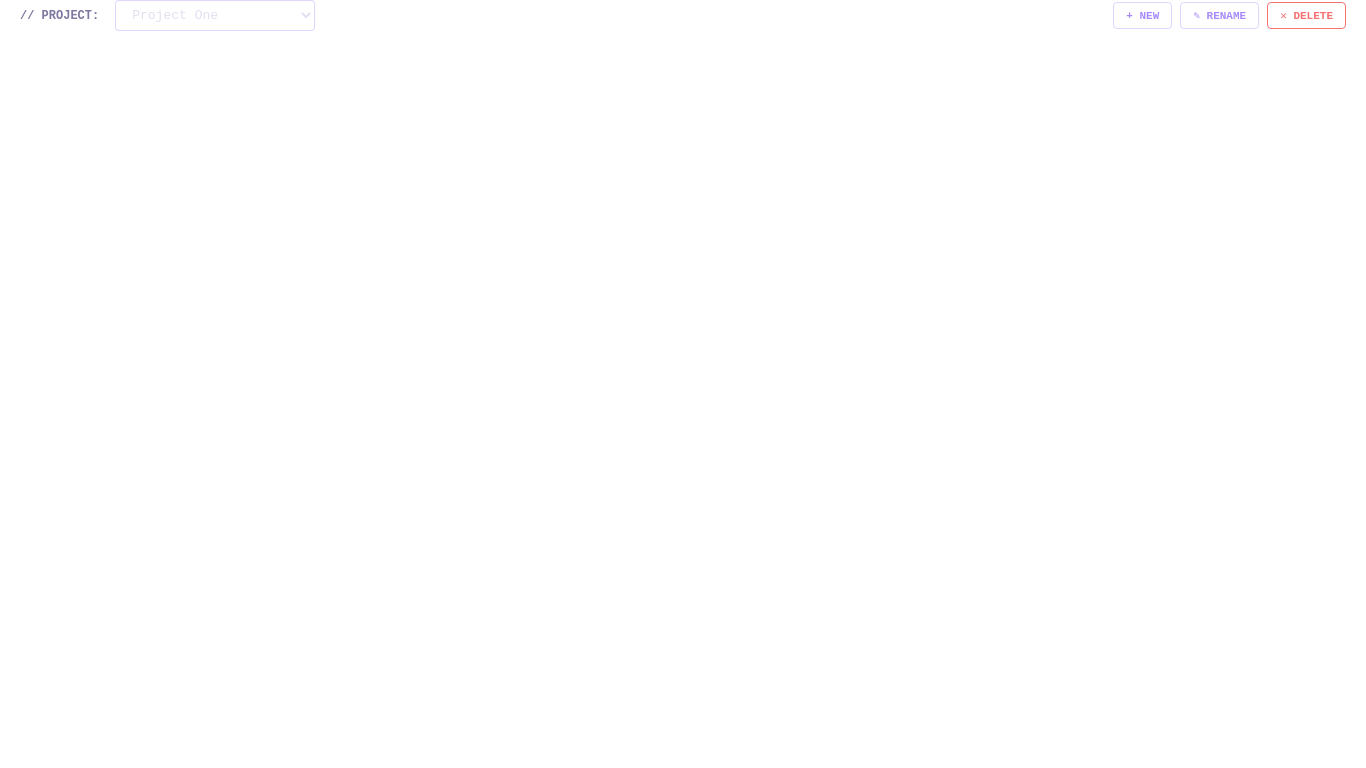
Test: ProjectPicker › opens delete confirmation dialog when clicking DELETE button
The width and height of the screenshot is (1366, 768).
Click the button "✕ DELETE". click: (1307, 16)
box: x1=1267 y1=2 x2=1346 y2=29
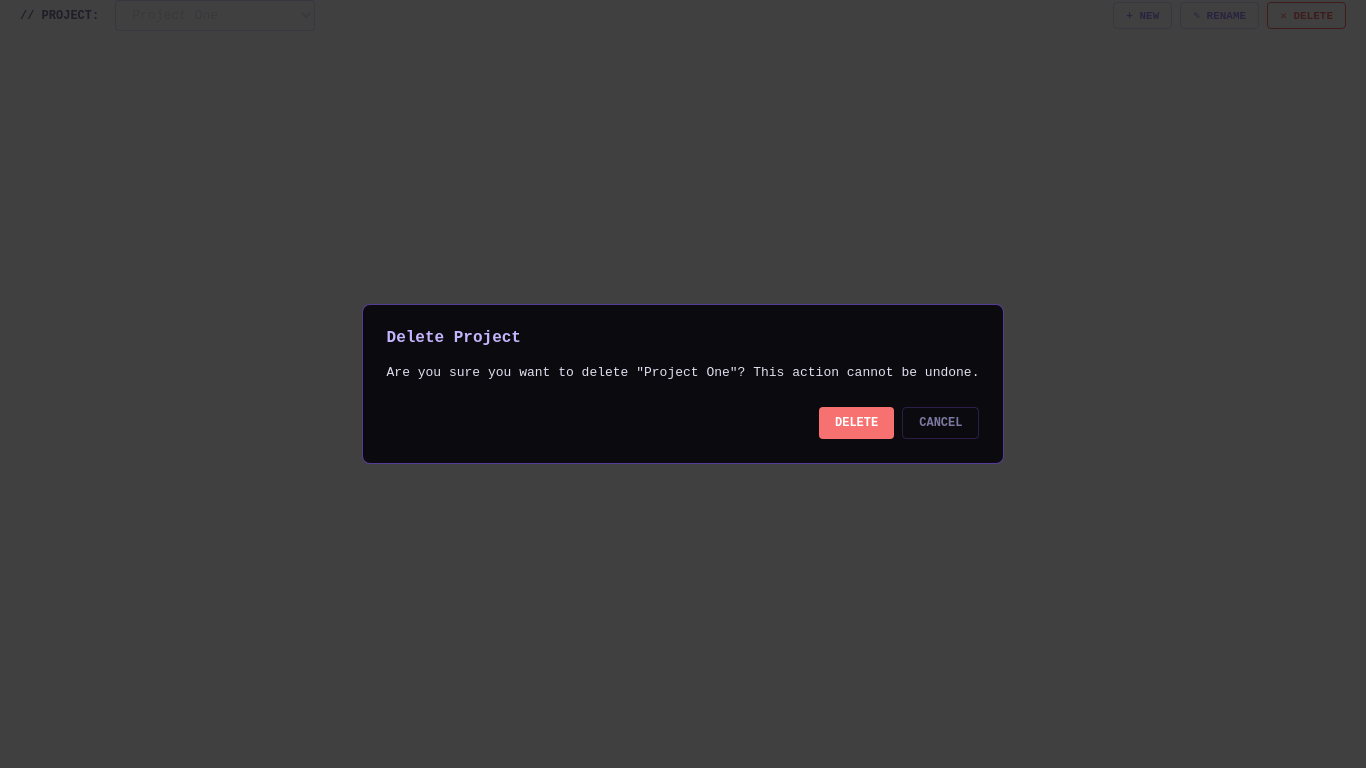
Expected: the heading "Delete Project" is shown, x1=386 y1=329 x2=521 y2=347
Expected: the text "Are you sure you want to delete \"Project One\"" is shown, x1=386 y1=365 x2=979 y2=380
